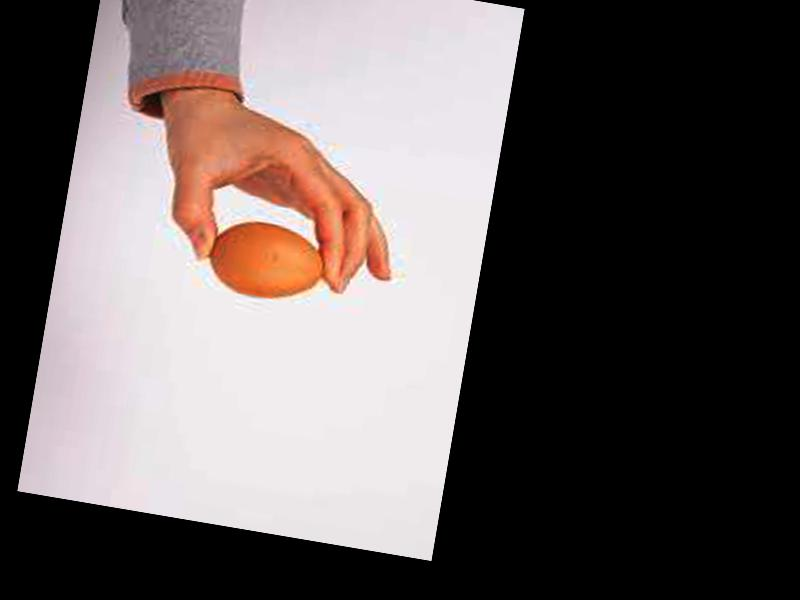Eggs: (207, 217, 331, 307)
